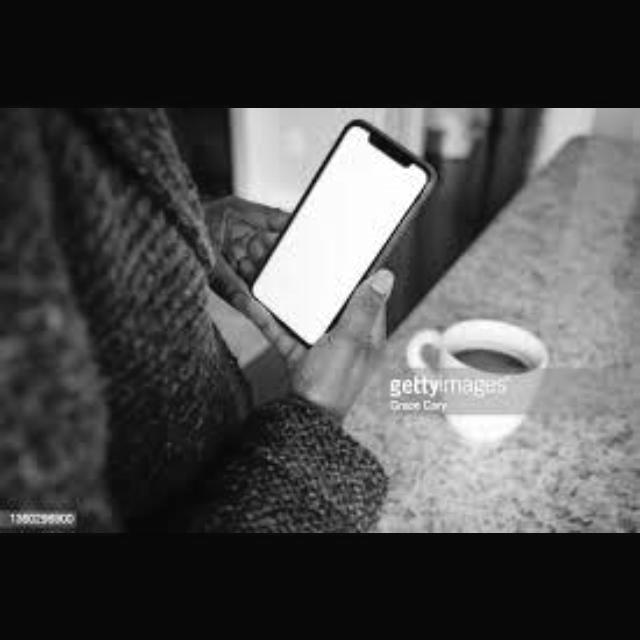fake: (246, 114, 431, 356)
